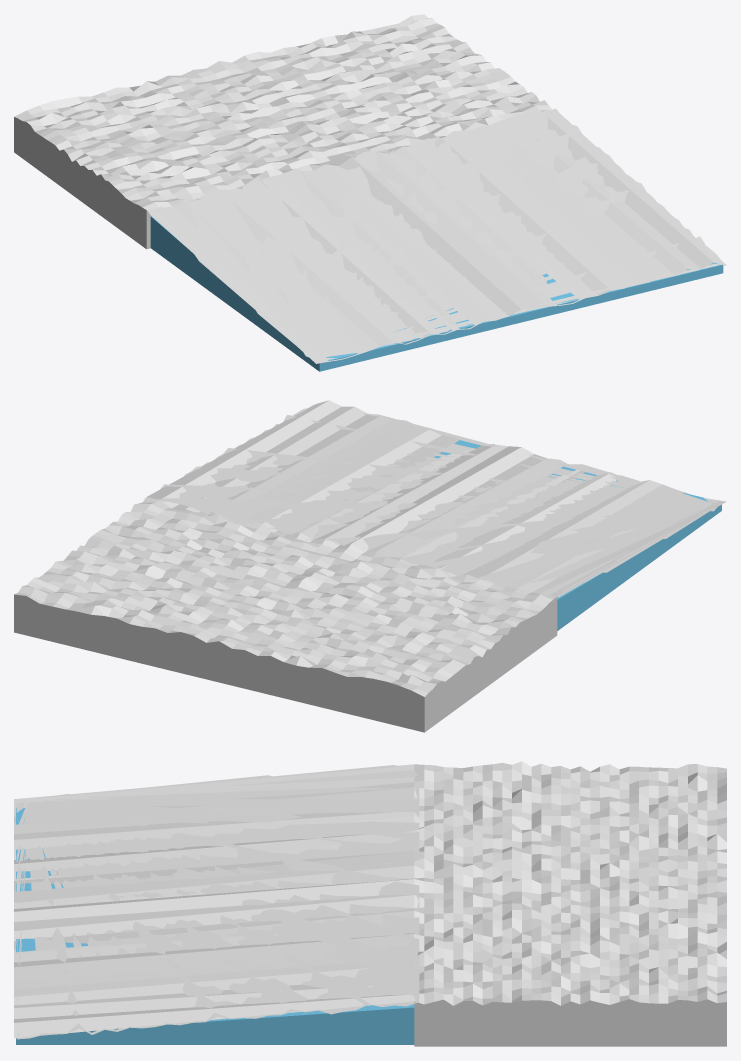
Rendered from sea1.fbx.
3 views of the same model, one above another, from view 1: azimuth 30°, elevation 25°; view 2: azimuth 150°, elevation 25°; view 3: azimuth 270°, elevation 25° (orthographic). The views are drawn at different scales.
Parts seen in each view (by area): view 1: Cube; view 2: Cube; view 3: Cube.
Boxes of the visible parts, left/top/right/bottom form: Cube: left=14, top=14, right=726, bottom=371; Cube: left=14, top=400, right=726, bottom=732; Cube: left=14, top=761, right=726, bottom=1046.
Bounding box in the file's own units: 3007 × 301 × 3821.
